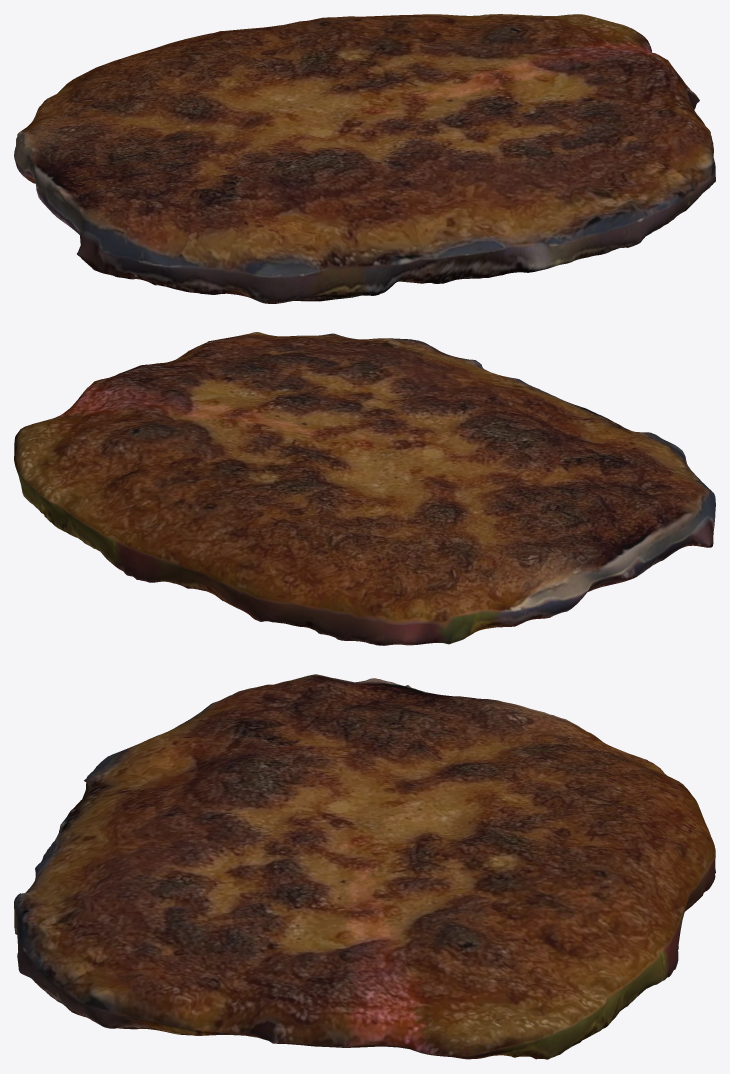
Rendered from patty.glb.
The picture shows the model from 3 angles, top to bottom: view 1: azimuth 30°, elevation 25°; view 2: azimuth 150°, elevation 25°; view 3: azimuth 270°, elevation 25°; orthographic projection. The views are drawn at different scales.
Visible parts, largest first — view 1: patty; view 2: patty; view 3: patty.
Part boxes in pixels (bbox=[...]): patty: bbox=[14, 14, 715, 303]; patty: bbox=[14, 332, 715, 645]; patty: bbox=[14, 674, 715, 1059].
Size of the model in its own units: 9.72 by 1.13 by 7.98.
Materials: 1 (1 with a texture image).
